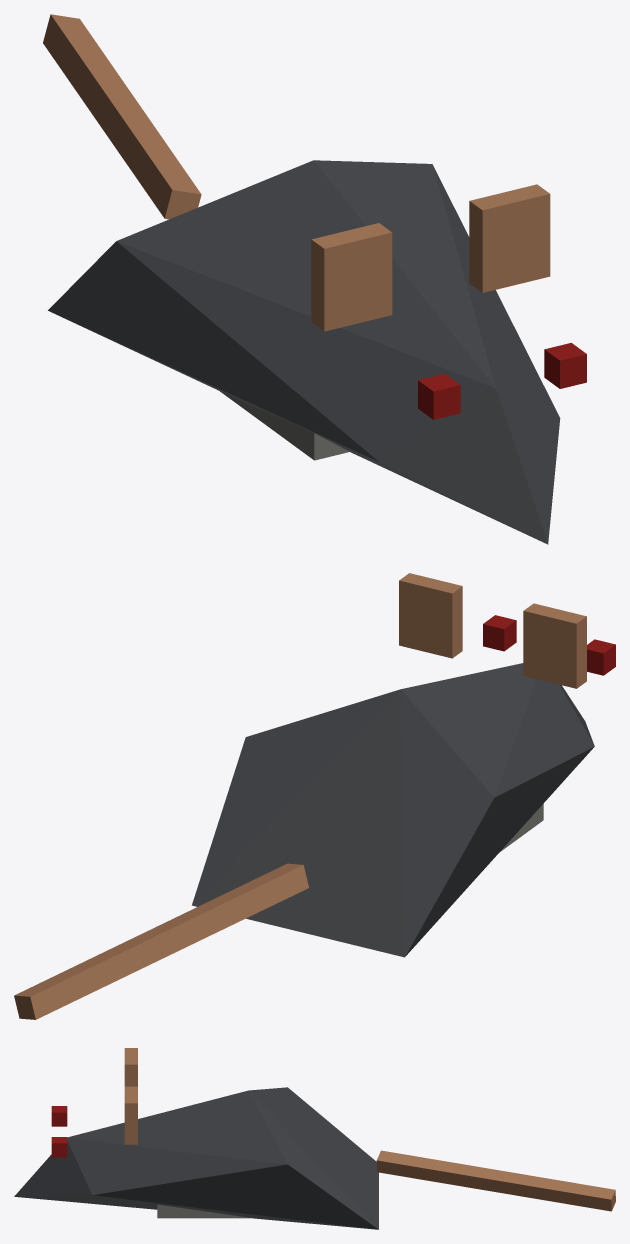
File: mod_rat.glb
3 renders of one model, top to bottom at view 1: azimuth 30°, elevation 25°; view 2: azimuth 150°, elevation 25°; view 3: azimuth 270°, elevation 25°, orthographic. The views are drawn at different scales.
Parts seen in each view (by area): view 1: mod_rat; view 2: mod_rat; view 3: mod_rat.
Boxes of the visible parts, x1,y1,x2,y2 form: mod_rat: (43, 14, 586, 544); mod_rat: (14, 573, 615, 1019); mod_rat: (14, 1048, 615, 1229).
Size of the model in its own units: 0.14 by 0.1025 by 0.4618.
